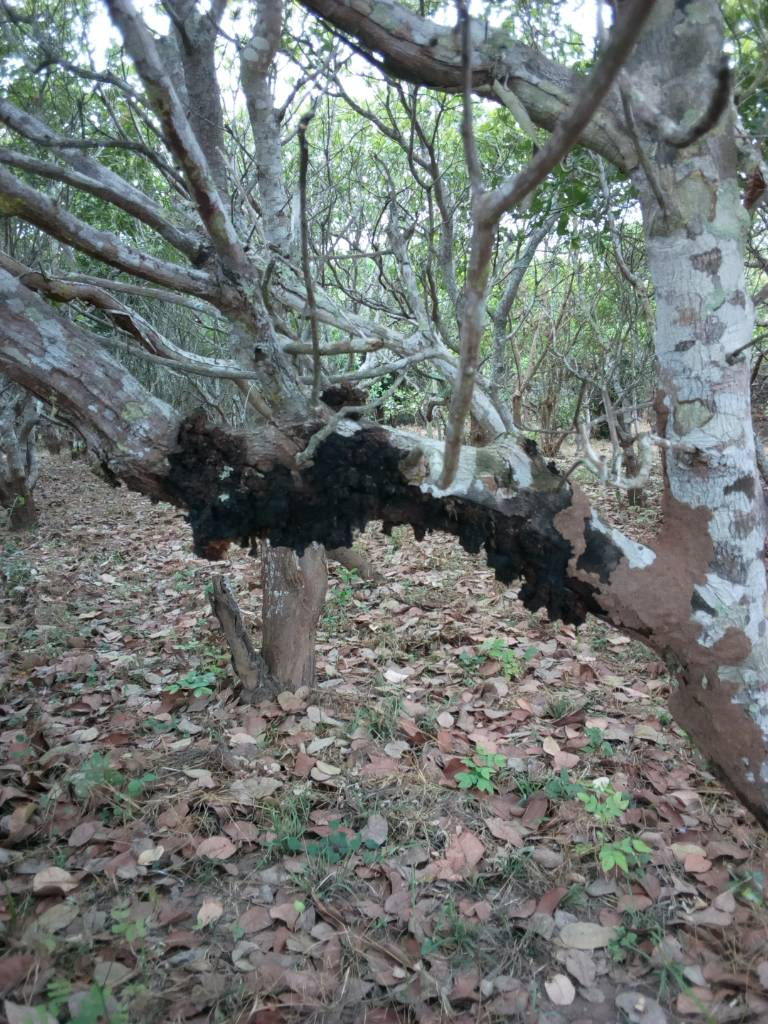Gommose: (135, 400, 600, 636)
